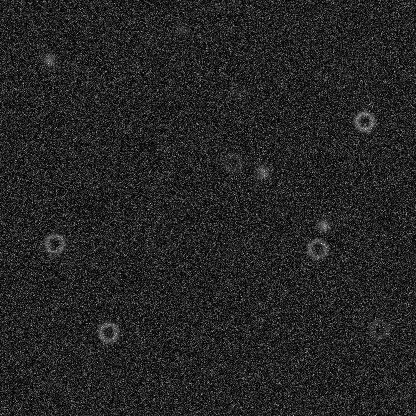Ring: (96, 320, 120, 344), (220, 150, 244, 174), (42, 231, 66, 255), (367, 316, 391, 340), (305, 236, 329, 260), (352, 109, 376, 133)
Spot: (254, 163, 270, 179), (315, 217, 331, 233), (173, 21, 189, 37), (232, 86, 248, 102), (41, 52, 57, 68)
